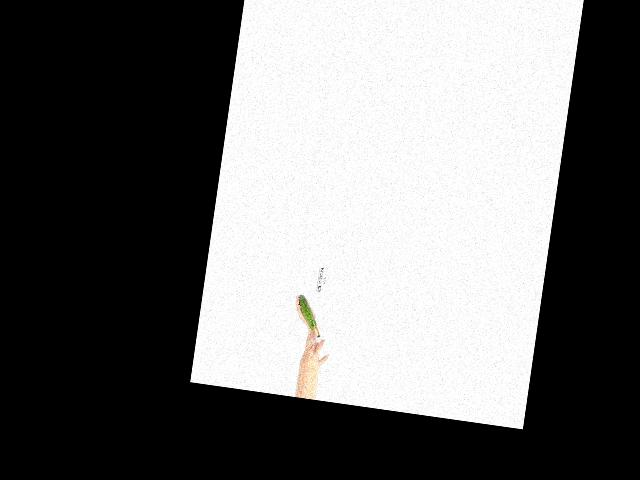cucumber: (294, 294, 320, 330)
